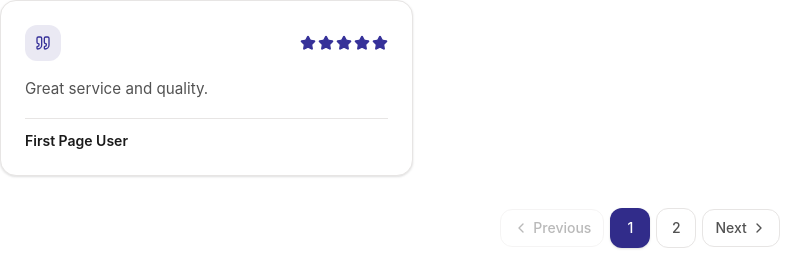
Test: TestimonialsList › requests the next page when pagination is used
Expected: the text "First Page User" is shown, [25,118,388,151]
Click the button named "page 2": (676, 228) [656,208,696,248]
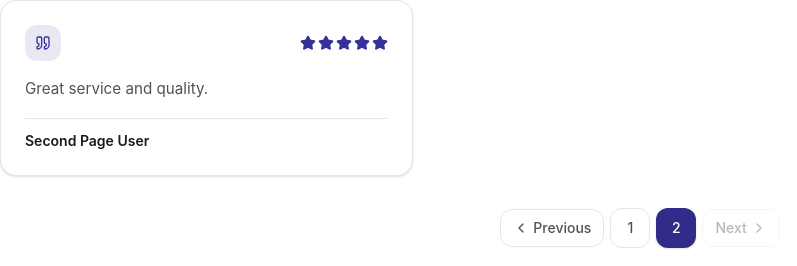
Now the text "Second Page User" is shown, box [25,118,388,151]
